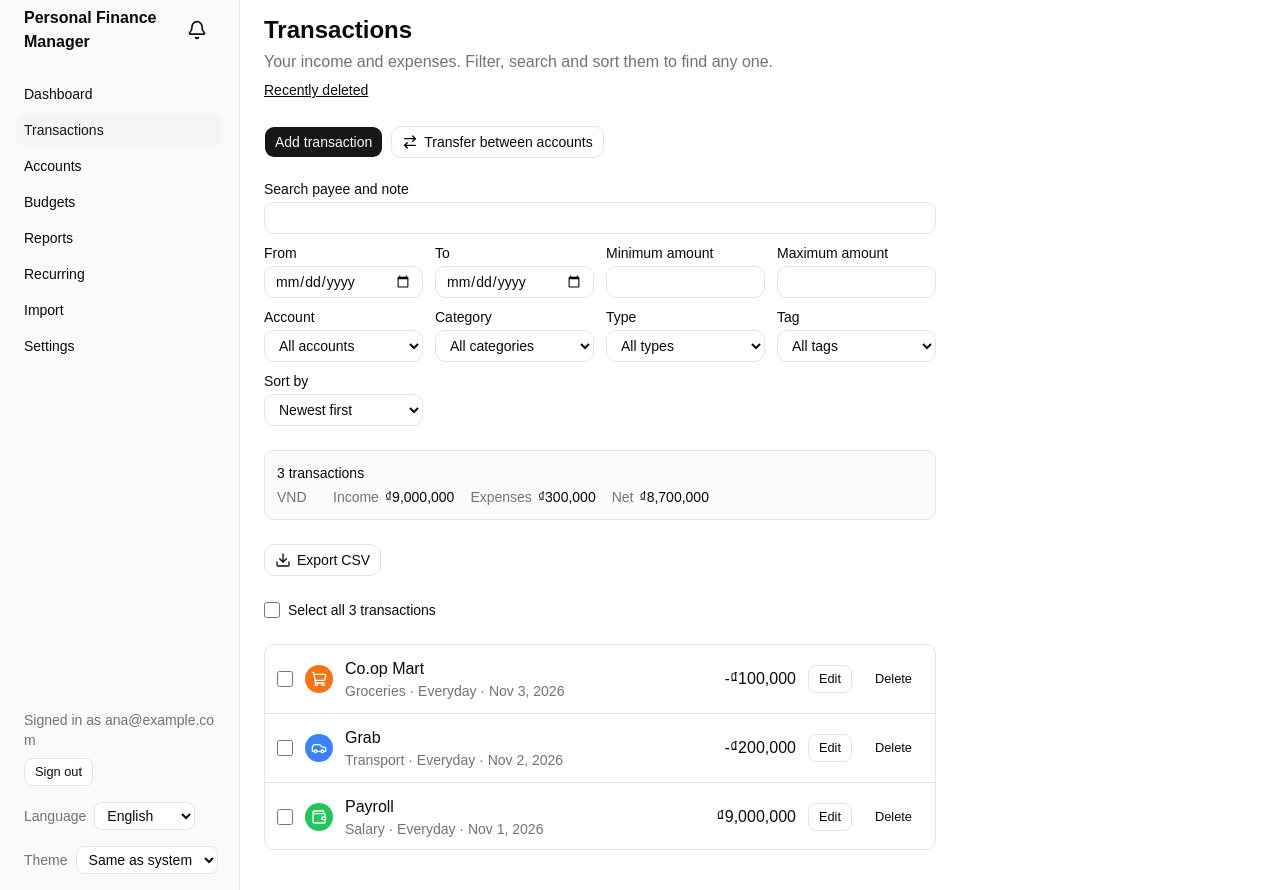
it: bulk actions › refuse a move to an account in another currency, naming the transactions
Click the checkbox named "Select Grab" at x=285, y=748, box [277,740,293,756]
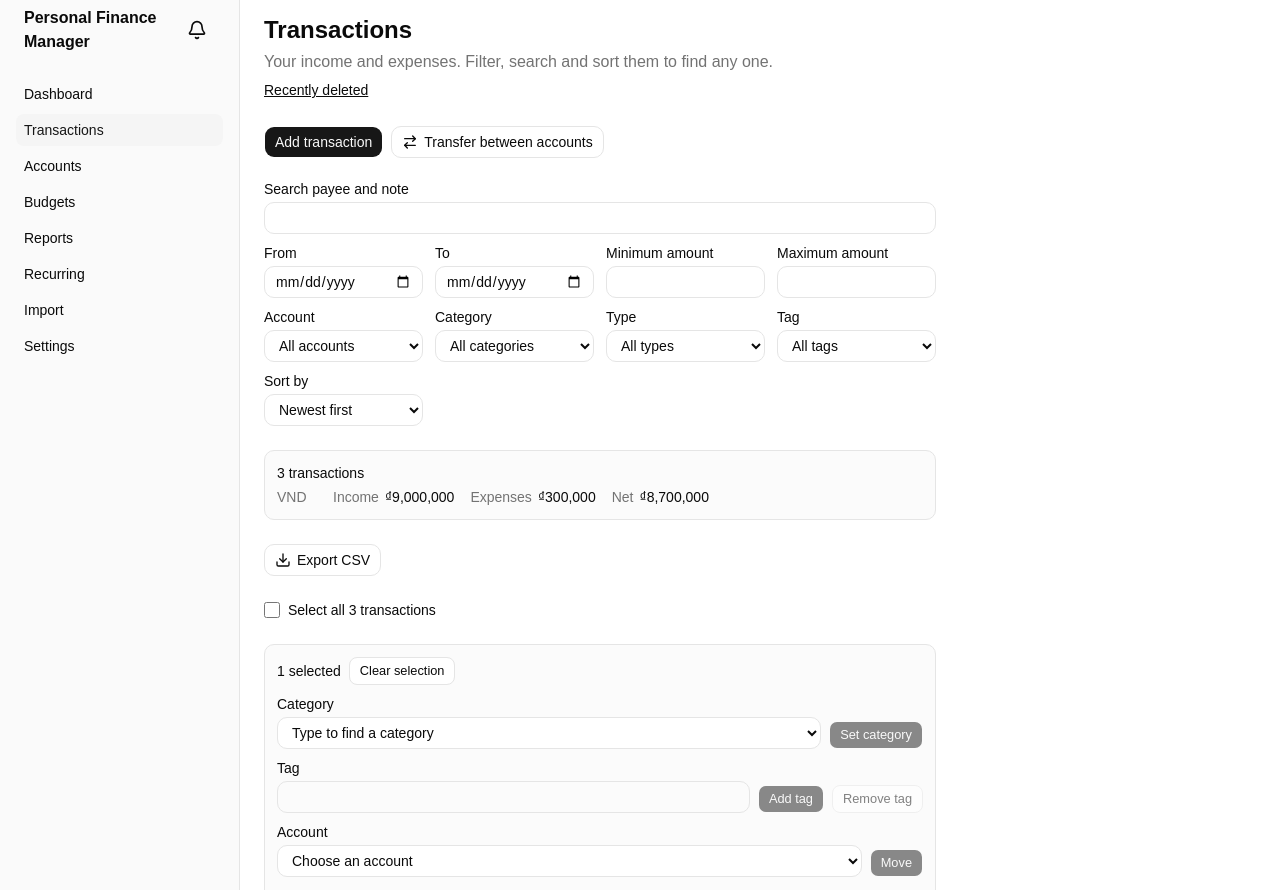
Select "US dollars" in the dropdown labelled "Account" below "1 selected" at x=569, y=861, box [277,845,862,877]
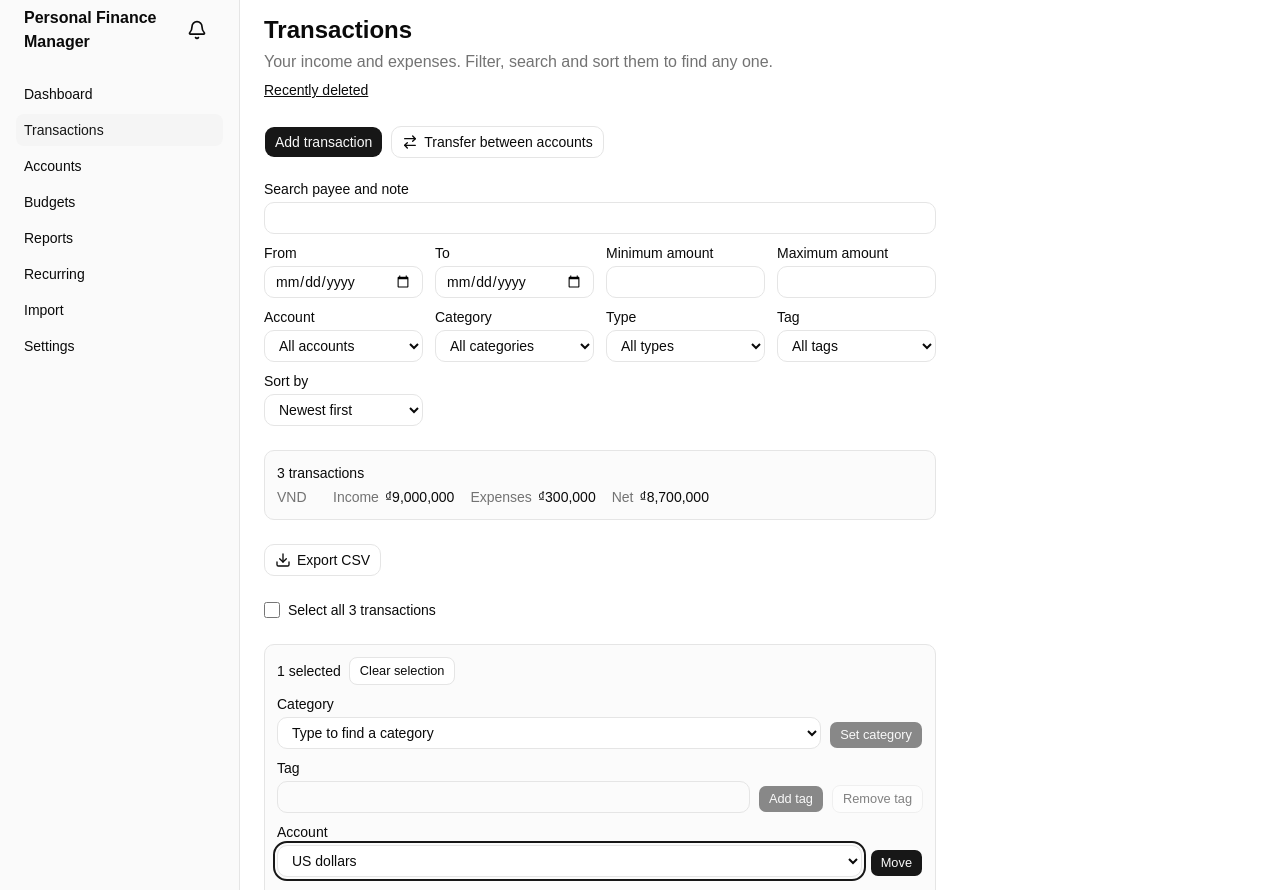
Click the button "Move" at x=896, y=863, box [870,849,923,877]
(page scrolled)
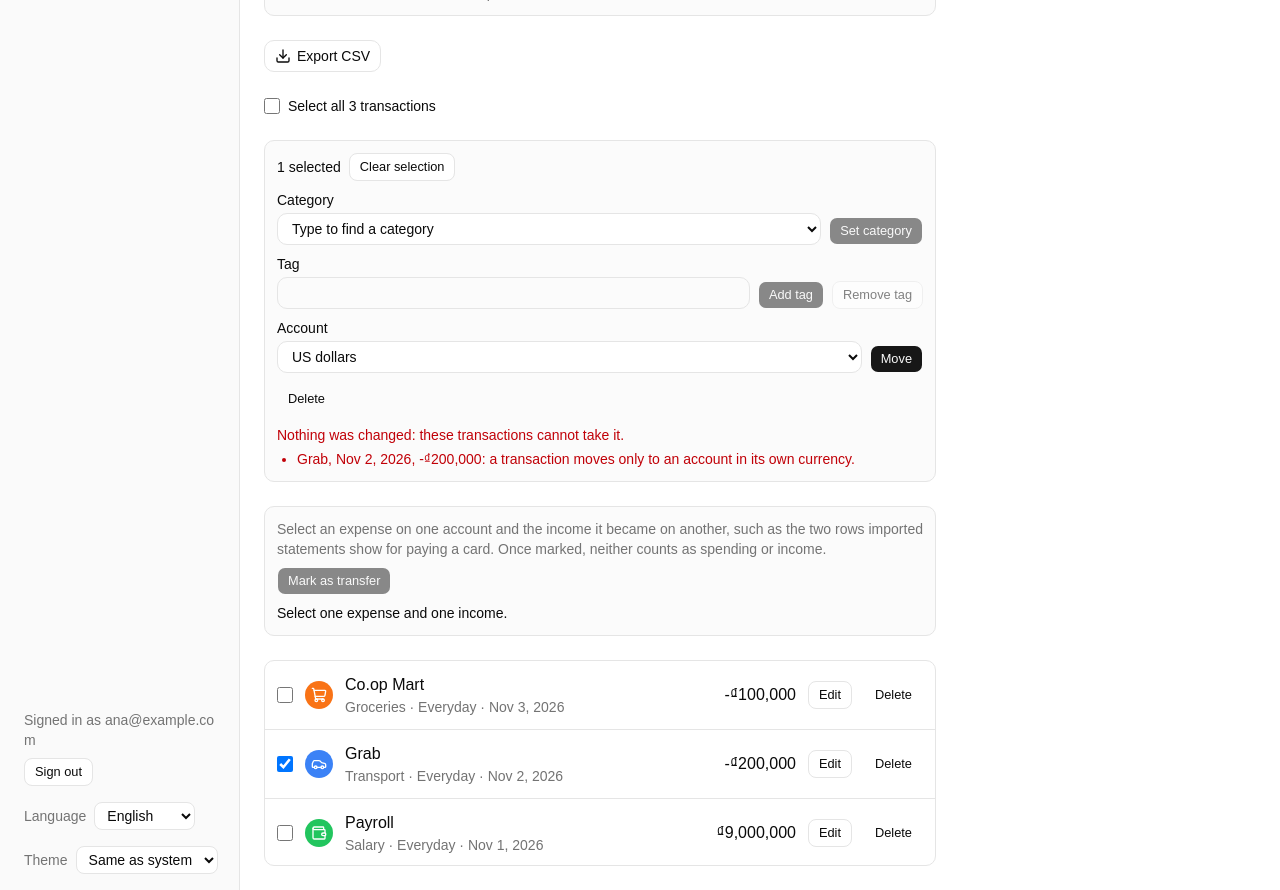
Expected: the 1st list item shows "Grab, Nov 2, 2026, -₫200,000: a transaction moves only to an account in its own currency.", [297,451,855,467]
